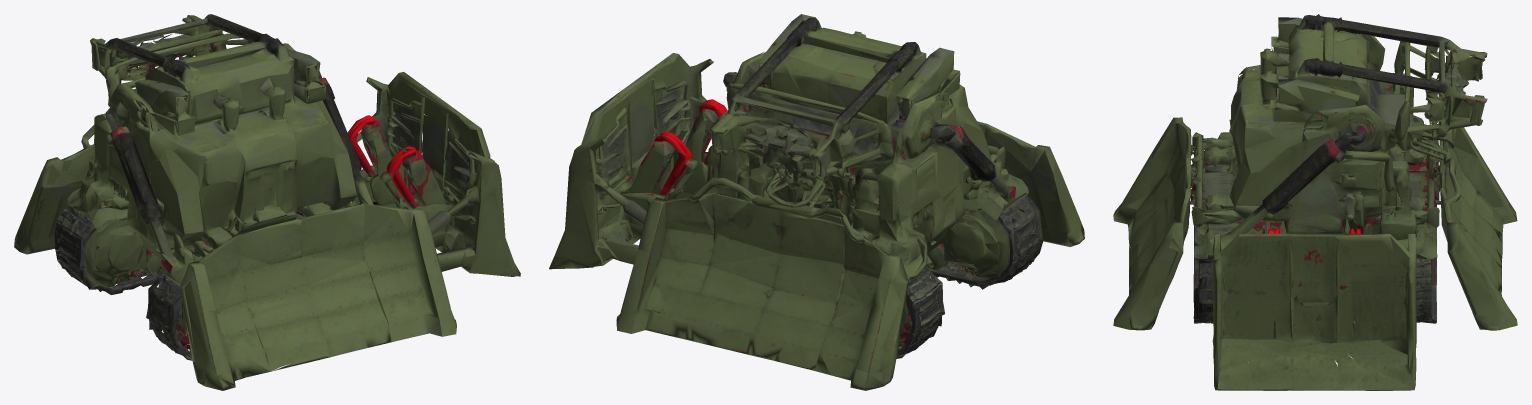
The model's file is sputnik-dozer.glb.
3 renders of one model, left to right at view 1: azimuth 30°, elevation 25°; view 2: azimuth 150°, elevation 25°; view 3: azimuth 270°, elevation 25°, orthographic. The views are drawn at different scales.
Parts seen in each view (by area): view 1: Hull; view 2: Hull; view 3: Hull.
Part boxes in pixels (x1,y1,x2,y2): Hull: [14, 14, 520, 390]; Hull: [549, 14, 1084, 390]; Hull: [1113, 14, 1517, 390].
Size of the model in its own units: 1.84 by 1.19 by 1.81.
1 material, 1 textured.
